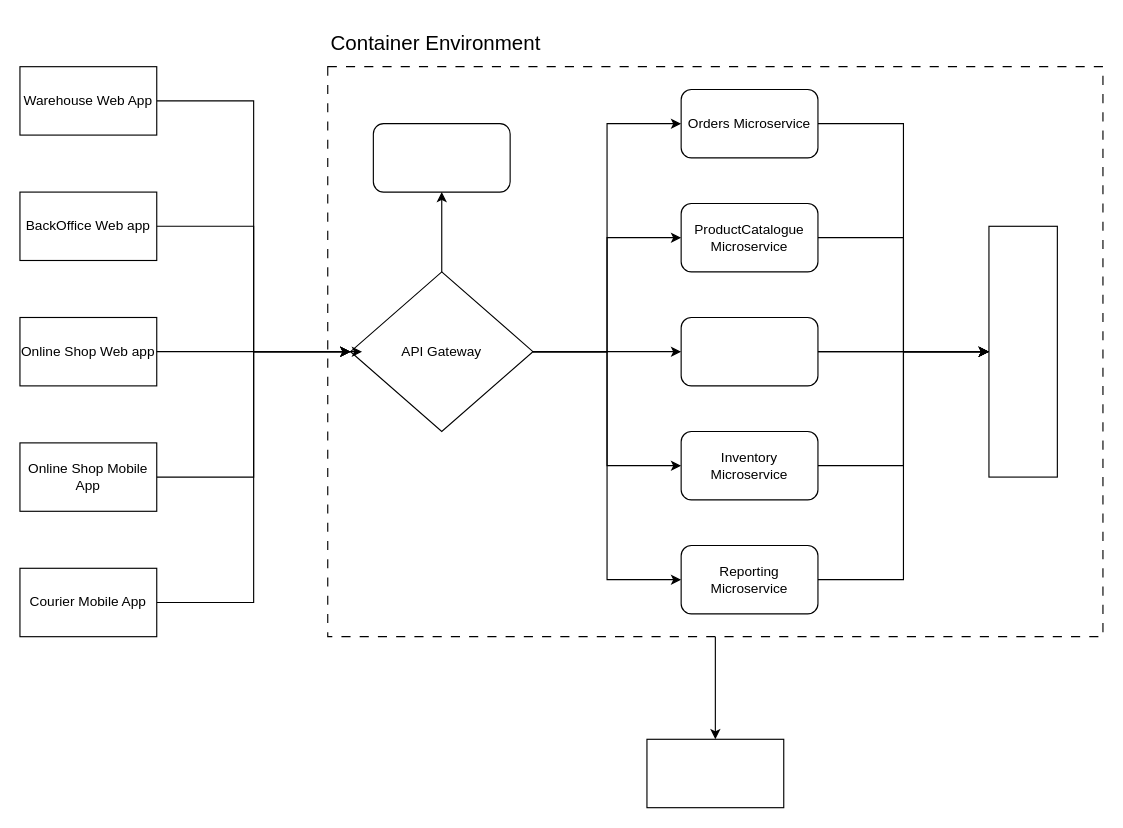
Some shapes in this 1123 by 828 pixel diagram are drawn without their labels. The shapes that lost their labels are listed below. From the top down, each one's centre as x and y in pixels, then its label:
At point 441,157: "Authentication Microservice".
At point 749,351: "Payment Microservice".
At point 1022,351: "MessageQueue".
At point 715,773: "Log Aggregator".
